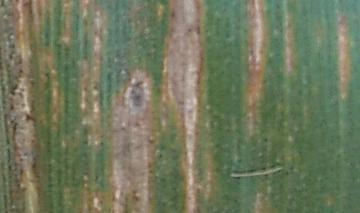tarspot: (125, 79, 149, 109), (186, 24, 204, 35), (130, 188, 140, 201), (169, 7, 176, 19)
